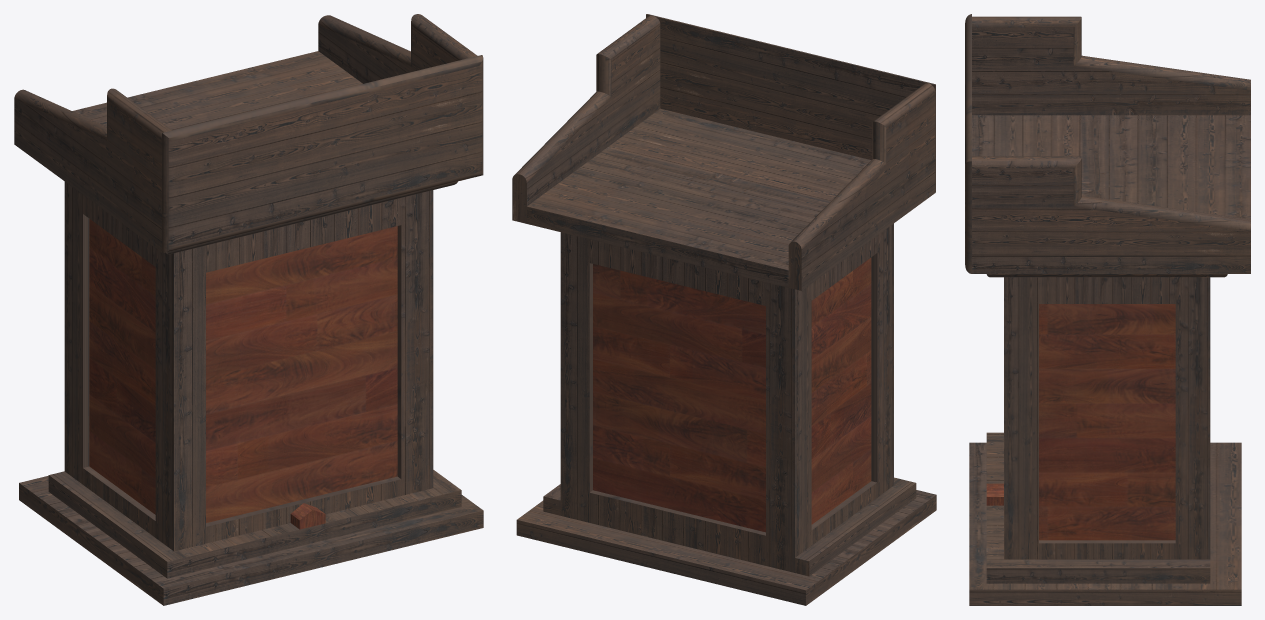
The model's file is Pupitre.fbx.
3 views of the same model, side by side, from view 1: azimuth 30°, elevation 25°; view 2: azimuth 150°, elevation 25°; view 3: azimuth 270°, elevation 25° (orthographic). The views are drawn at different scales.
Parts seen in each view (by area): view 1: pCube1, pCube2; view 2: pCube1, pCube2; view 3: pCube1, pCube2.
Part boxes in pixels (left/top/right/bottom): pCube1: left=19, top=181, right=483, bottom=605; pCube2: left=14, top=14, right=483, bottom=252; pCube1: left=516, top=223, right=936, bottom=605; pCube2: left=512, top=14, right=935, bottom=290; pCube1: left=969, top=274, right=1241, bottom=605; pCube2: left=965, top=14, right=1250, bottom=273.
Size of the model in its own units: 1 by 1.41 by 0.8203.
